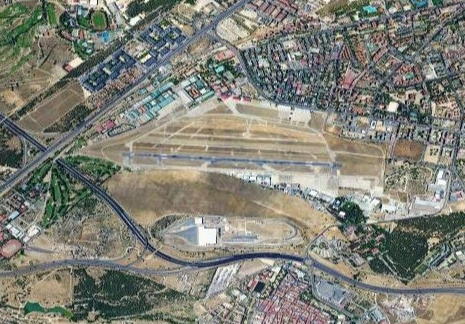airport: (120, 149, 380, 205)
motorway: (104, 196, 143, 236), (22, 135, 69, 168), (64, 165, 110, 197), (1, 111, 40, 145), (1, 162, 33, 192), (167, 254, 228, 269), (230, 249, 291, 264), (68, 110, 99, 139), (98, 84, 130, 111), (131, 62, 163, 89), (161, 36, 193, 63), (292, 250, 332, 271), (330, 270, 370, 291), (134, 236, 168, 260), (45, 254, 90, 269), (90, 258, 135, 273), (135, 261, 180, 276), (1, 262, 45, 277), (193, 14, 222, 36), (216, 33, 243, 56), (370, 283, 414, 297), (415, 285, 465, 297), (219, 1, 247, 16)
